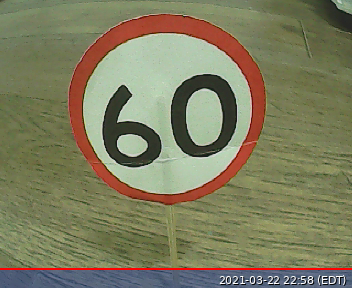Speed Limit 60: (65, 12, 267, 205)
